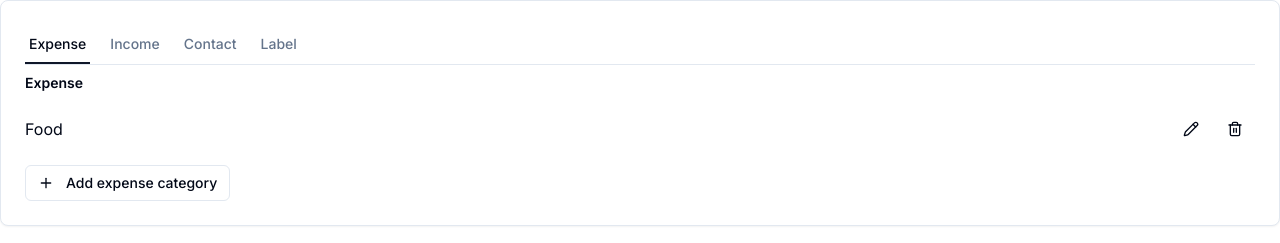
Test: ProfileDictionariesPane › switches to the Contact tab wired to dictionaries.contact with "Add contact"
The width and height of the screenshot is (1280, 243).
Click the tab "Contact" at point(210, 45), box [180, 26, 241, 64]
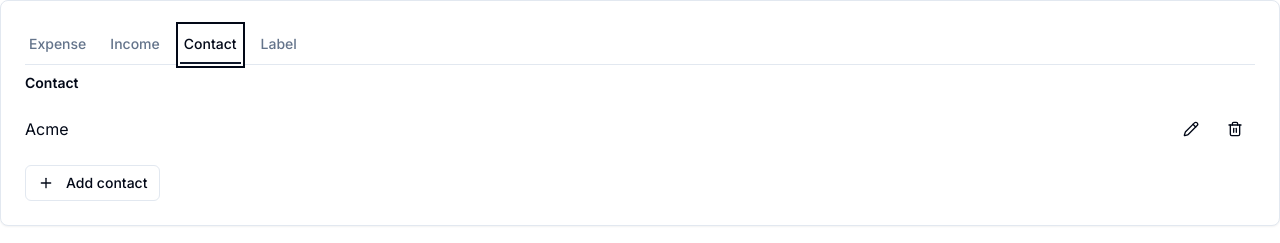
Result: the button "Add contact" is shown at [25, 165, 160, 201]
Result: the text "Acme" is shown at [25, 117, 68, 141]
